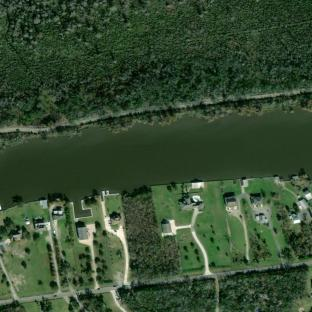Floresta: (0, 0, 312, 125), (0, 91, 312, 152), (122, 186, 180, 281), (219, 265, 308, 312), (119, 279, 216, 312), (275, 203, 312, 259), (78, 289, 112, 312)
